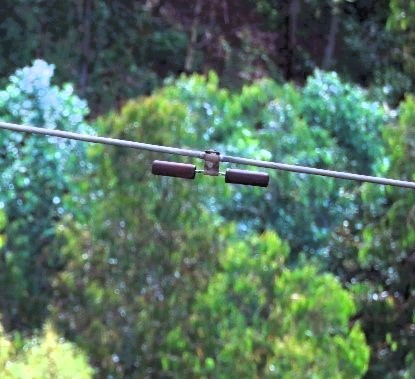Shockproof hammer: (142, 139, 273, 191)
